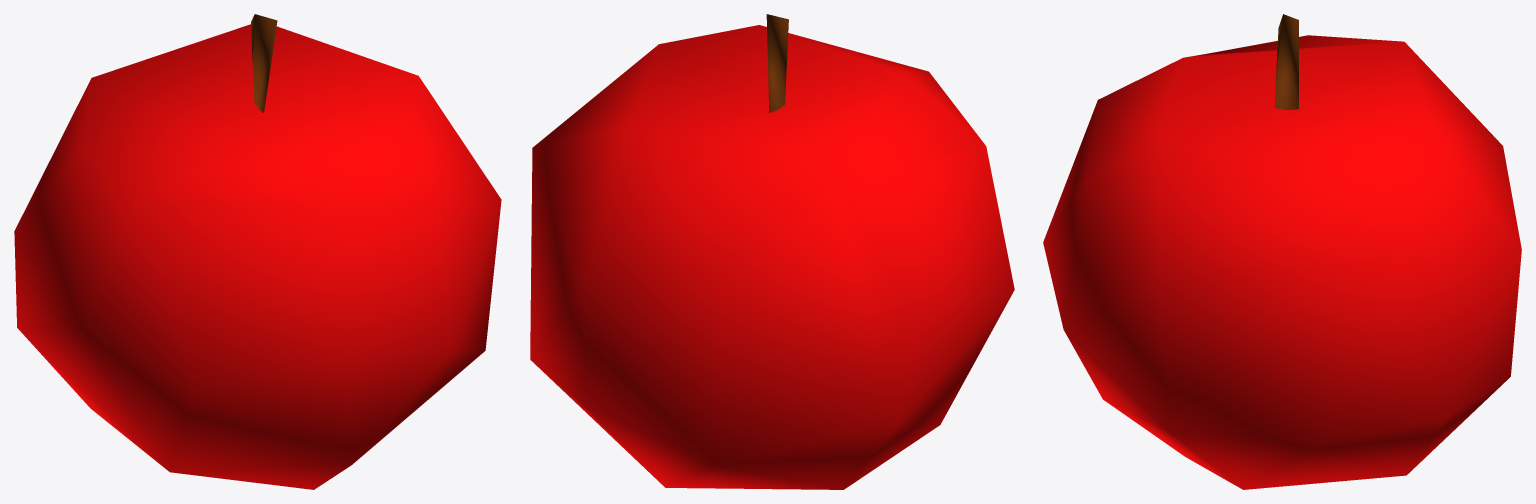
File: Manzana.fbx
The picture shows the model from 3 angles, left to right: view 1: azimuth 30°, elevation 25°; view 2: azimuth 150°, elevation 25°; view 3: azimuth 270°, elevation 25°; orthographic projection.
Parts seen in each view (by area): view 1: MANZANA; view 2: MANZANA; view 3: MANZANA.
Part boxes in pixels (box(x1,y1,x2,y2)): MANZANA: box(14, 14, 501, 489); MANZANA: box(530, 14, 1014, 489); MANZANA: box(1043, 14, 1521, 489).
Size of the model in its own units: 19.39 by 19.78 by 19.68.
